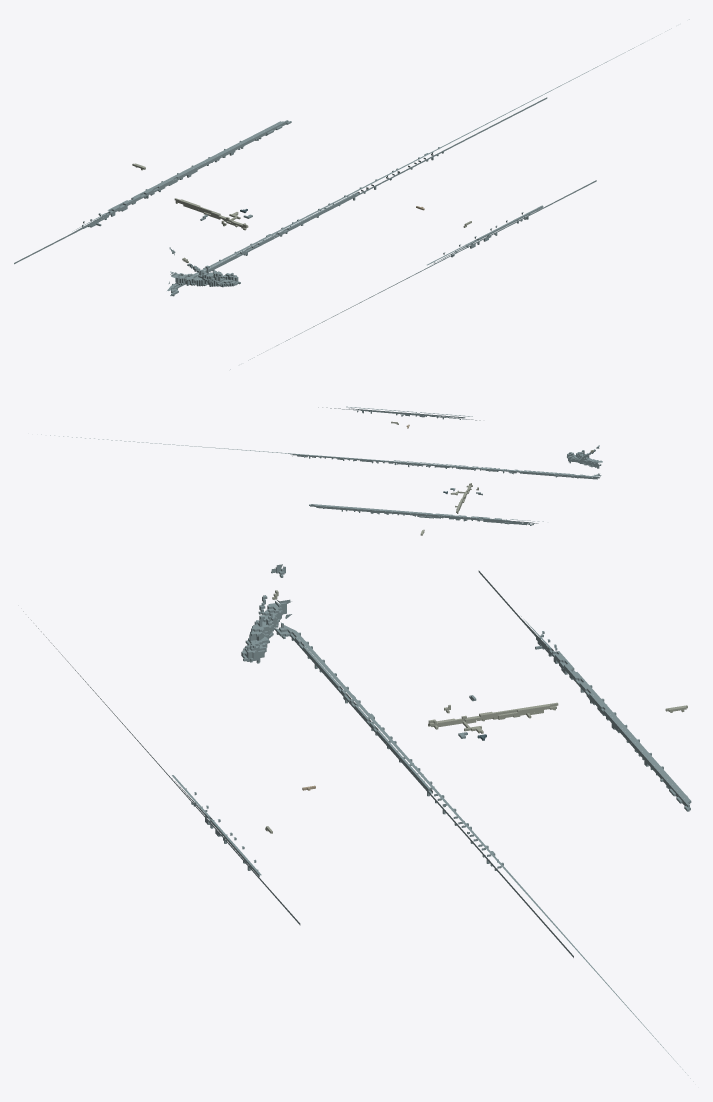
3 renders of one model, top to bottom at view 1: azimuth 30°, elevation 25°; view 2: azimuth 150°, elevation 25°; view 3: azimuth 270°, elevation 25°, orthographic. The views are drawn at different scales.
Visible parts, largest first — view 1: measured-industrial; view 2: measured-industrial; view 3: measured-industrial.
Part boxes in pixels (<box>): measured-industrial: <box>14,19,689,369</box>; measured-industrial: <box>41,406,602,535</box>; measured-industrial: <box>23,564,693,1081</box>.
Size of the model in its own units: 540 by 35.72 by 298.
